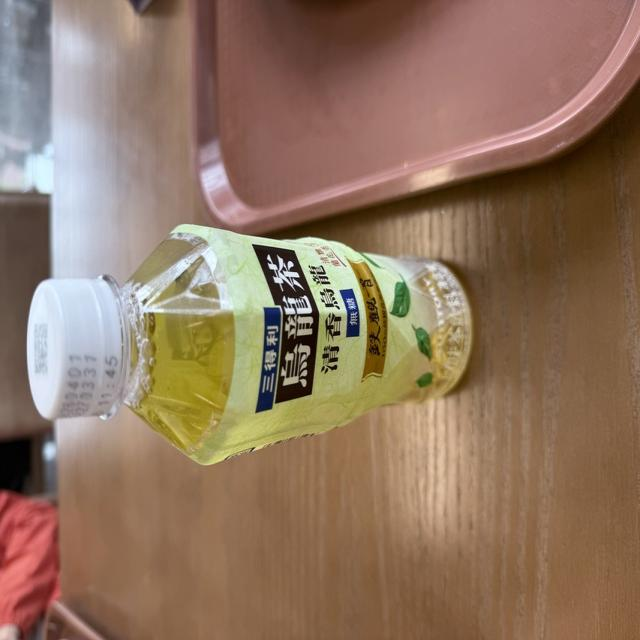high: (27, 225, 472, 464)
